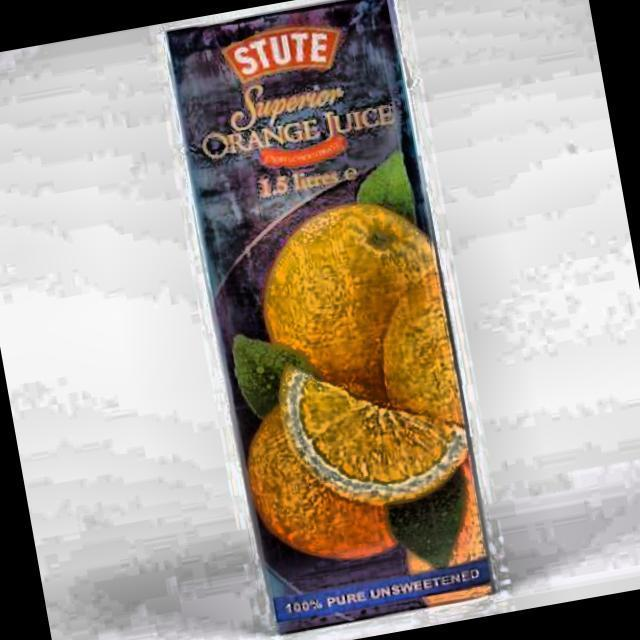cardboard: (161, 0, 499, 635)
